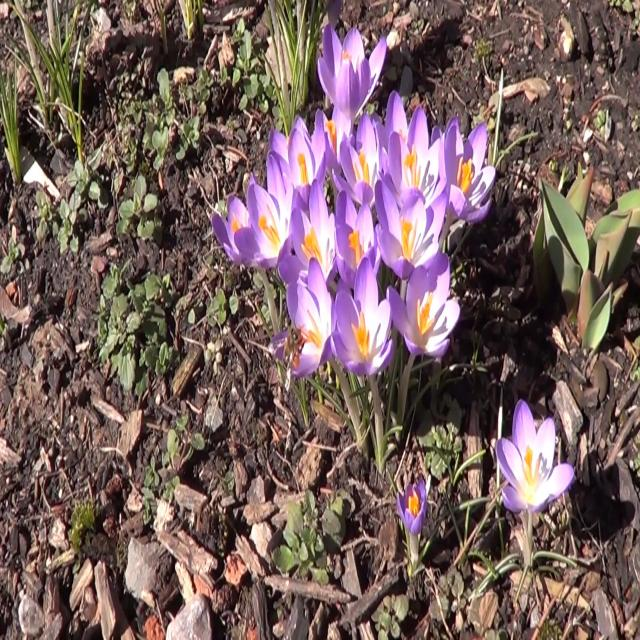honeybee: (278, 330, 308, 374)
